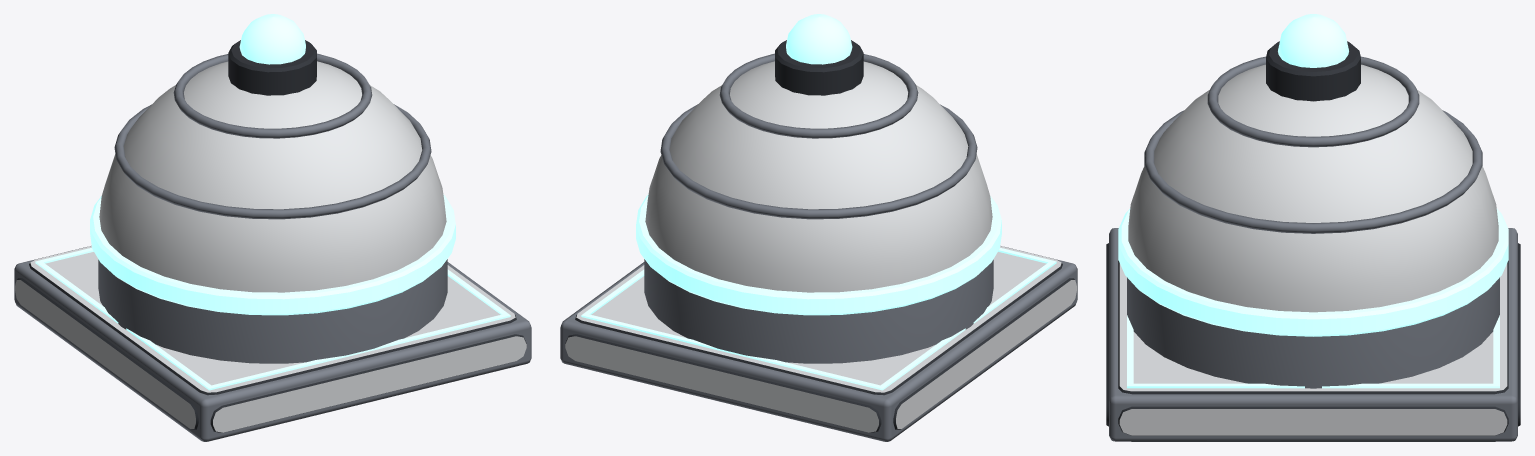
File: R4X_PersonalShield.fbx
3 renders of one model, left to right at view 1: azimuth 30°, elevation 25°; view 2: azimuth 150°, elevation 25°; view 3: azimuth 270°, elevation 25°, orthographic. The views are drawn at different scales.
Visible parts, largest first — view 1: R4X_PersonalShield_Body; view 2: R4X_PersonalShield_Body; view 3: R4X_PersonalShield_Body.
Boxes of the visible parts, <box> form: R4X_PersonalShield_Body: <box>14,14,531,441</box>; R4X_PersonalShield_Body: <box>560,14,1077,441</box>; R4X_PersonalShield_Body: <box>1106,14,1520,441</box>.
Bounding box in the file's own units: 0.52 × 0.475 × 0.52.
